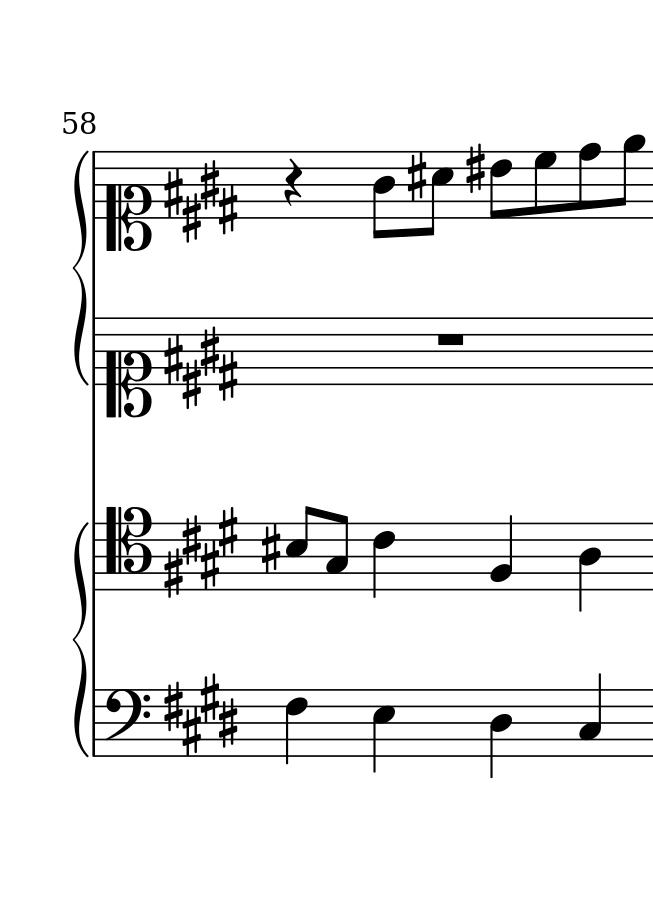4_2: (490, 512, 516, 592)
4_3: (578, 669, 605, 759)
4_4: (487, 686, 514, 784), (576, 521, 604, 611)
4_5: (371, 685, 398, 777)
4_6: (283, 687, 311, 771), (370, 520, 399, 599)
5: (61, 108, 79, 138)
8: (80, 106, 96, 138)
8_3: (324, 510, 352, 592)
8_4: (370, 149, 397, 241)
8_5: (420, 149, 454, 237), (284, 504, 314, 591)
8_6: (488, 150, 516, 220)
8_7: (532, 149, 557, 219)
8_8: (576, 142, 603, 219)
8_9: (616, 133, 647, 219)
Brace: (69, 149, 90, 387), (72, 521, 90, 760)
E_S: (162, 505, 242, 598), (163, 672, 238, 761), (162, 158, 239, 244), (162, 323, 237, 408)
Fclef: (103, 686, 151, 747)
Rests1: (430, 331, 470, 346)
Rests4: (284, 157, 303, 207)
Sharp: (464, 142, 489, 193), (405, 150, 427, 204), (260, 520, 281, 575)
Single_barline: (88, 150, 103, 219), (89, 523, 104, 591), (89, 317, 103, 385), (89, 689, 103, 756)
Soprano_Cclef: (103, 148, 151, 252), (106, 317, 153, 417)
Tensor_Cclef: (104, 504, 153, 593)
